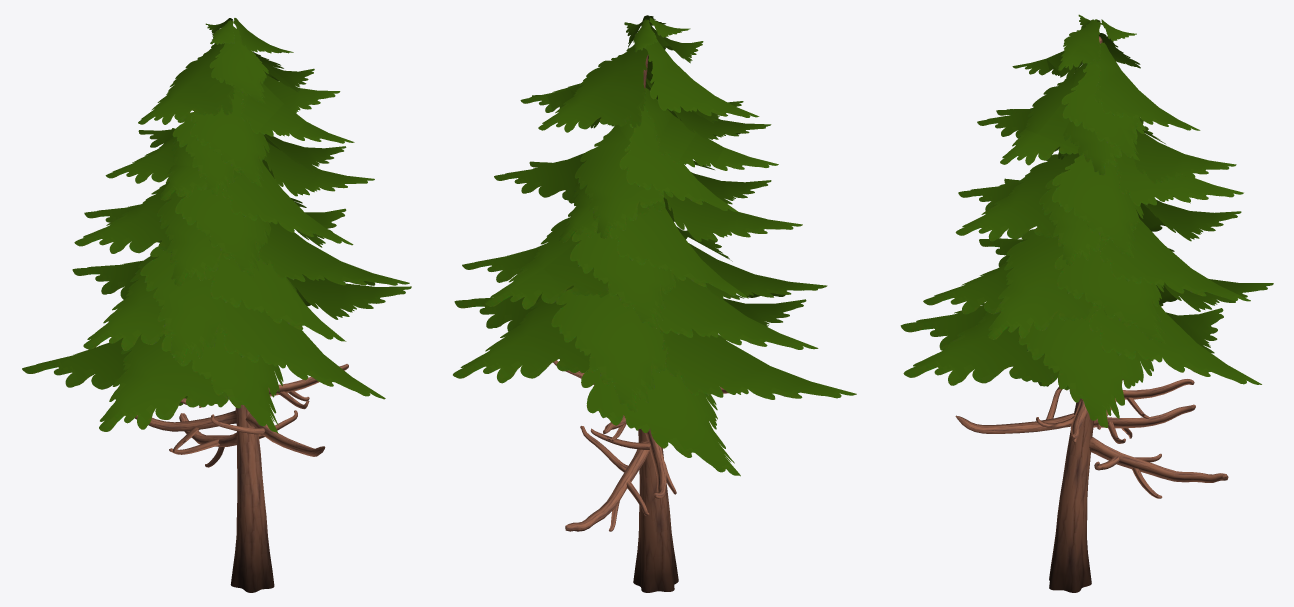
The model's file is Pine_1.glb.
3 views of the same model, side by side, from view 1: azimuth 30°, elevation 25°; view 2: azimuth 150°, elevation 25°; view 3: azimuth 270°, elevation 25° (orthographic). The views are drawn at different scales.
Visible parts, largest first — view 1: Pine_1; view 2: Pine_1; view 3: Pine_1.
Part boxes in pixels (x1=…): Pine_1: x1=22, y1=18, x2=411, y2=592; Pine_1: x1=453, y1=15, x2=856, y2=592; Pine_1: x1=900, y1=14, x2=1273, y2=592.
Size of the model in its own units: 4.94 by 7.32 by 4.54.
2 materials, 2 textured.
